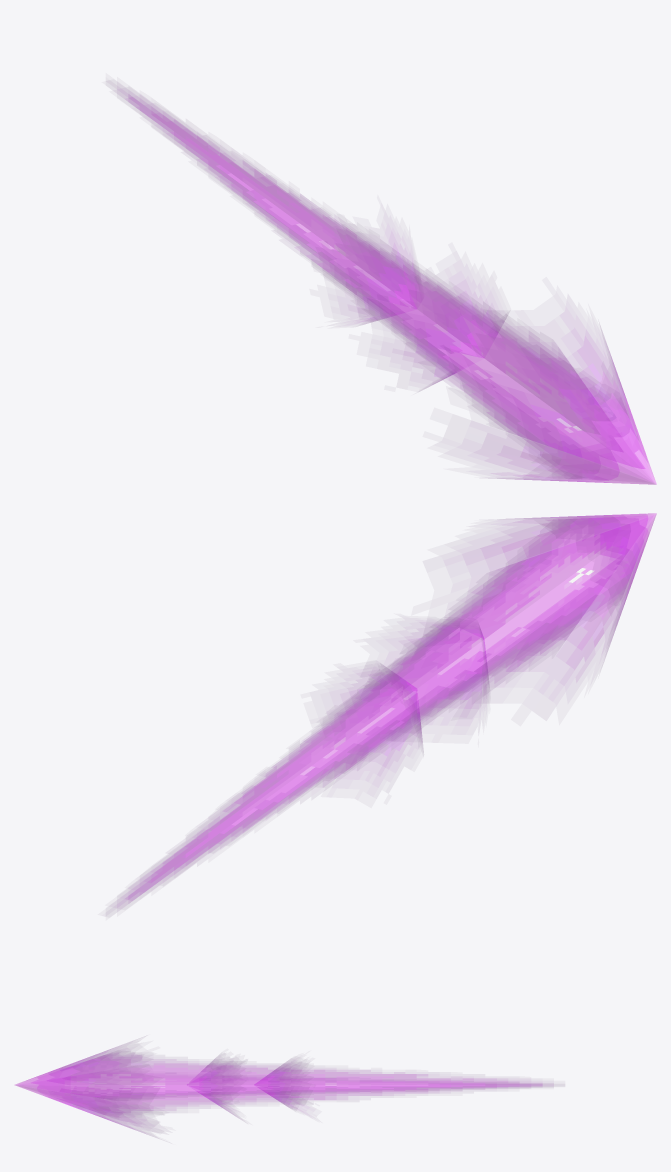
The model's file is si_eoao_3000.glb.
3 renders of one model, top to bottom at view 1: azimuth 30°, elevation 25°; view 2: azimuth 150°, elevation 25°; view 3: azimuth 270°, elevation 25°, orthographic. The views are drawn at different scales.
Parts seen in each view (by area): view 1: layer_02_si_eoao_3000, layer_00_si_eoao_3000, layer_01_si_eoao_3000; view 2: layer_02_si_eoao_3000, layer_00_si_eoao_3000, layer_01_si_eoao_3000; view 3: layer_02_si_eoao_3000, layer_00_si_eoao_3000, layer_01_si_eoao_3000.
Part boxes in pixels (left/top/right/bottom): layer_02_si_eoao_3000: left=107, top=81, right=643, bottom=479; layer_00_si_eoao_3000: left=473, top=327, right=656, bottom=484; layer_01_si_eoao_3000: left=347, top=231, right=505, bottom=389; layer_02_si_eoao_3000: left=106, top=517, right=648, bottom=915; layer_00_si_eoao_3000: left=462, top=513, right=656, bottom=685; layer_01_si_eoao_3000: left=340, top=622, right=488, bottom=776; layer_02_si_eoao_3000: left=31, top=1053, right=553, bottom=1112; layer_00_si_eoao_3000: left=14, top=1041, right=158, bottom=1136; layer_01_si_eoao_3000: left=187, top=1055, right=305, bottom=1118.
Bounding box in the file's own units: 4.62 × 4.62 × 22.
Materials: 1 (1 with a texture image).
